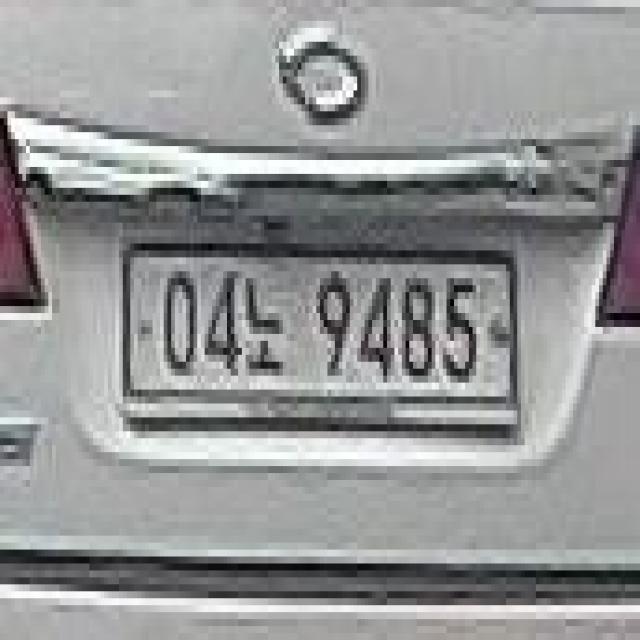illegal_plate: (117, 231, 530, 448)
